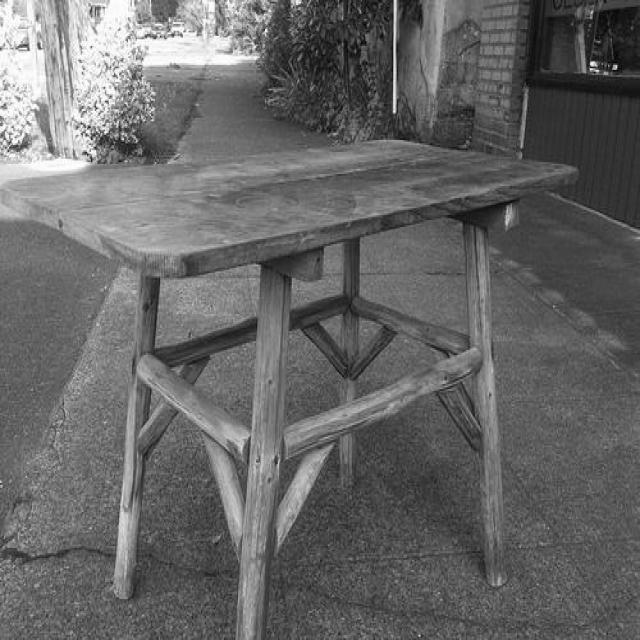table: (1, 142, 580, 638)
